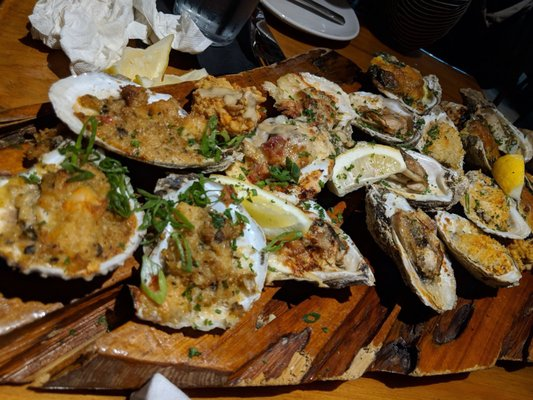sandwich: (287, 0, 346, 25)
soup: (0, 112, 143, 303)
